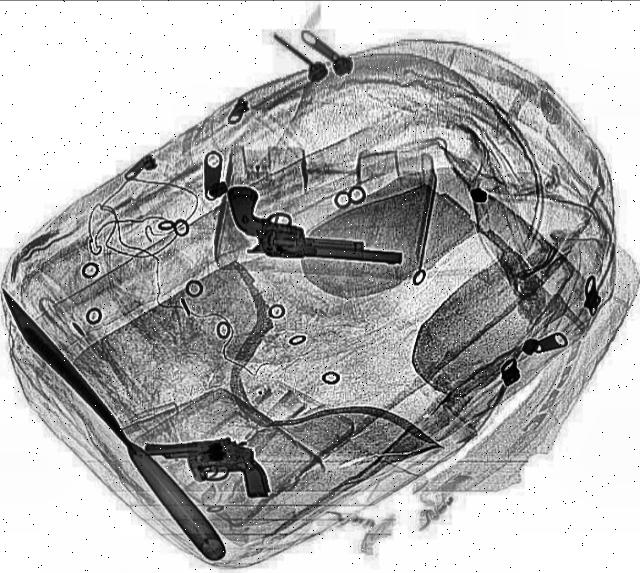Gun: (224, 184, 406, 264), (141, 434, 271, 504)
Knife: (0, 302, 230, 562)
